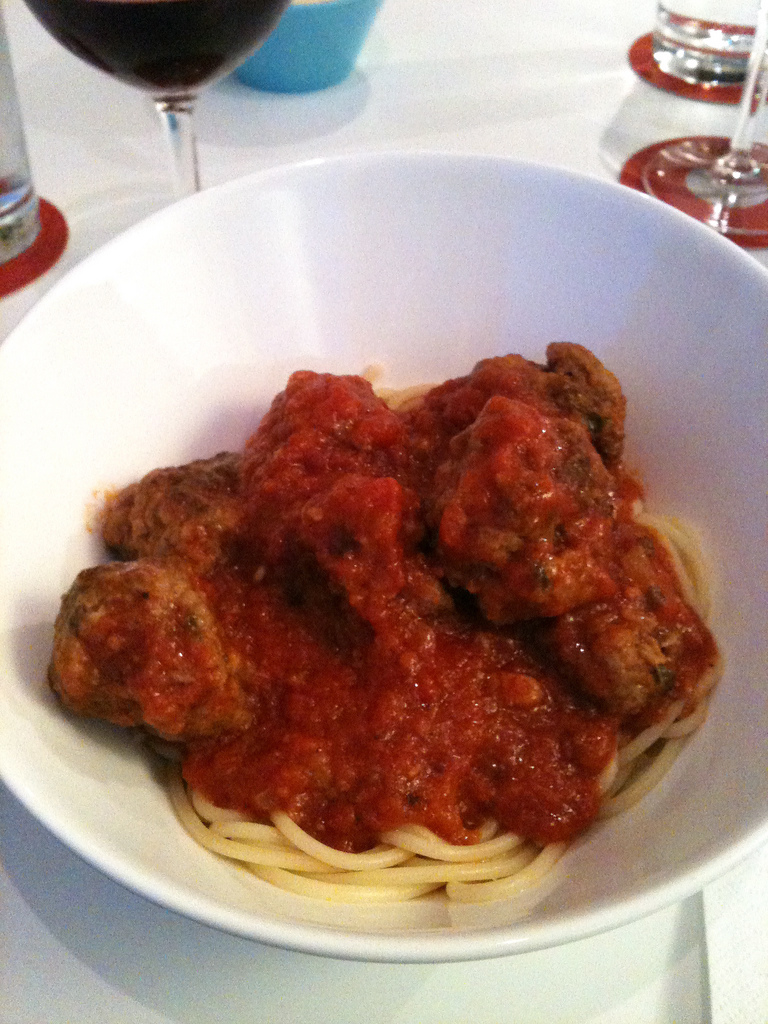meatballs: (448, 396, 626, 618), (42, 560, 235, 738), (556, 577, 685, 707)
plain spaghetti: (162, 762, 687, 923)
